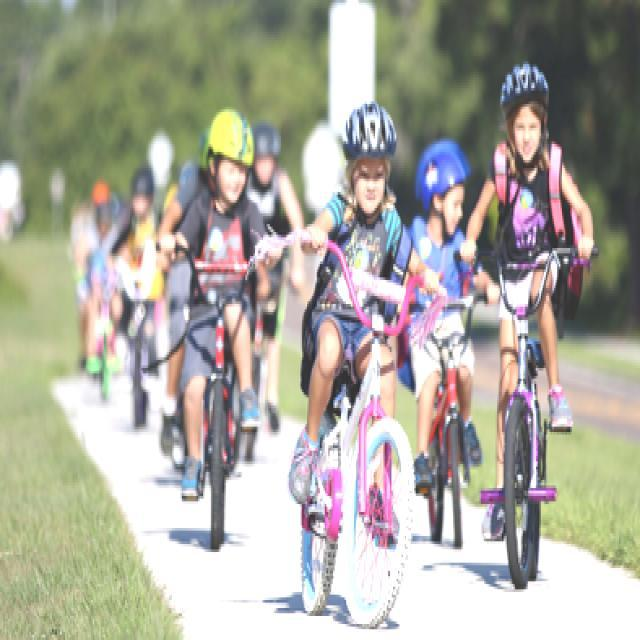Helmet: (338, 94, 400, 222), (501, 56, 554, 165), (202, 106, 254, 210)
